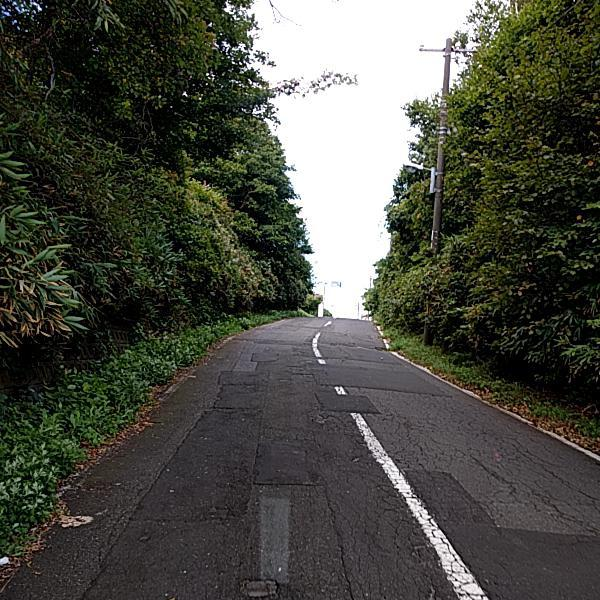D20: (238, 388, 599, 599)
D40: (236, 570, 284, 599), (309, 411, 330, 428)
